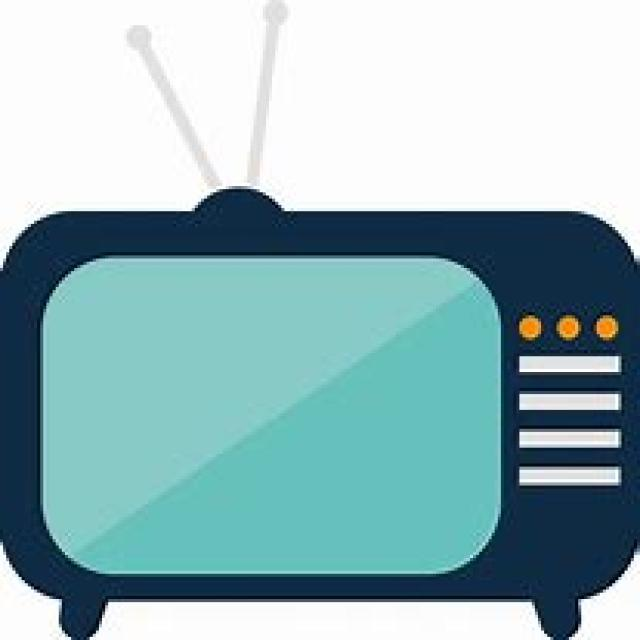tv: (0, 183, 637, 637)
